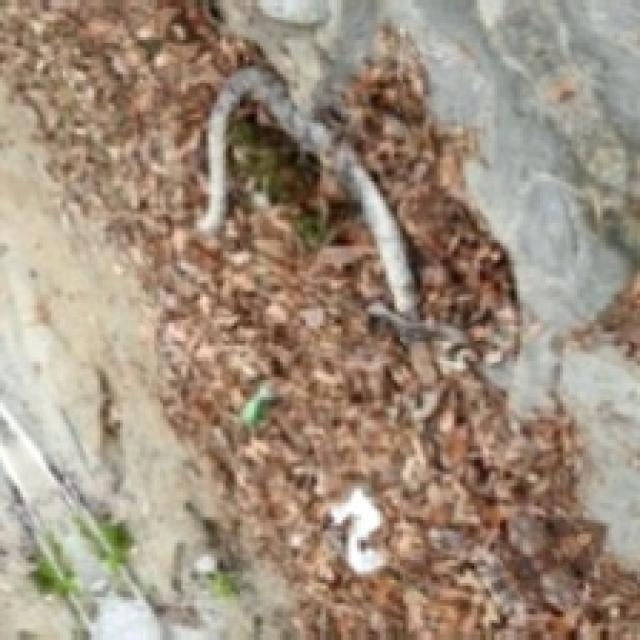reticulated python: (198, 66, 416, 321)
